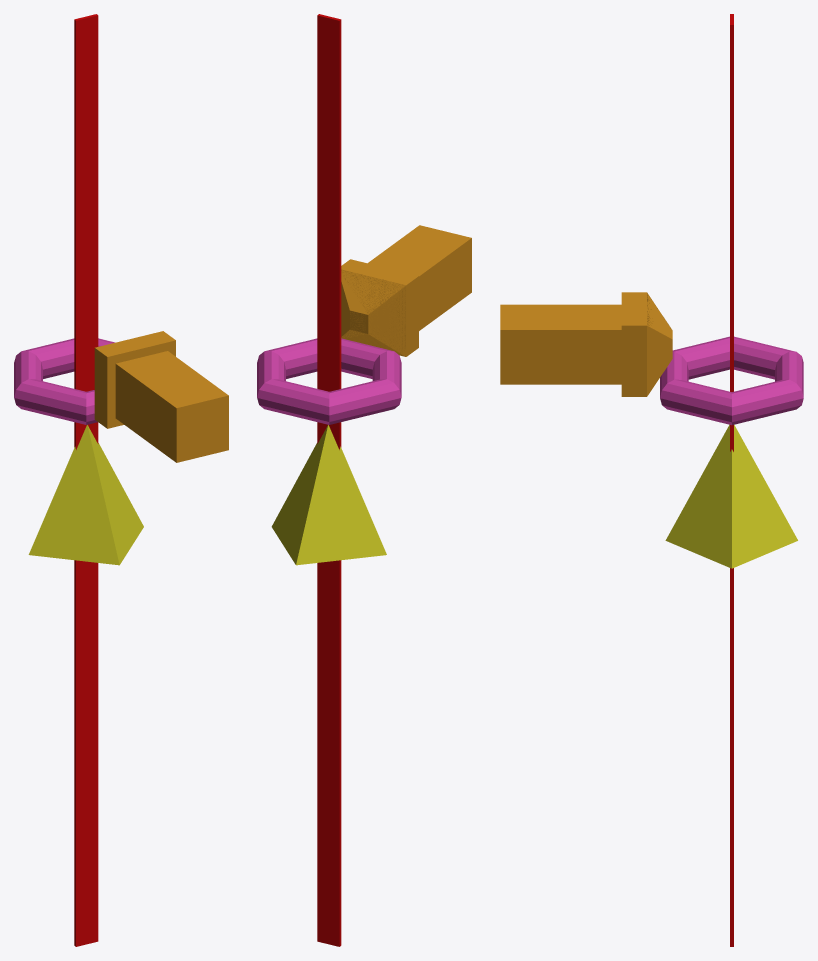
3 renders of one model, left to right at view 1: azimuth 30°, elevation 25°; view 2: azimuth 150°, elevation 25°; view 3: azimuth 270°, elevation 25°, orthographic.
Parts seen in each view (by area): view 1: Cube_Cube.001, Cube.001_Cube.002, Cone, Torus.001; view 2: Cube_Cube.001, Cube.001_Cube.002, Cone, Torus.001; view 3: Cube.001_Cube.002, Cone, Torus.001, Cube_Cube.001.
Part boxes in pixels (x1,y1,x2,y2): Cube_Cube.001: (74,14,98,946); Cube.001_Cube.002: (94,331,228,462); Cone: (28,425,143,565); Torus.001: (14,338,114,424); Cube_Cube.001: (317,14,341,946); Cube.001_Cube.002: (341,225,471,356); Cone: (271,425,386,565); Torus.001: (257,338,401,424); Cube.001_Cube.002: (500,292,672,396); Cone: (665,424,797,568); Torus.001: (660,336,803,425); Cube_Cube.001: (730,14,733,946).
Size of the model in its own units: 2.5 by 15.32 by 4.57.
